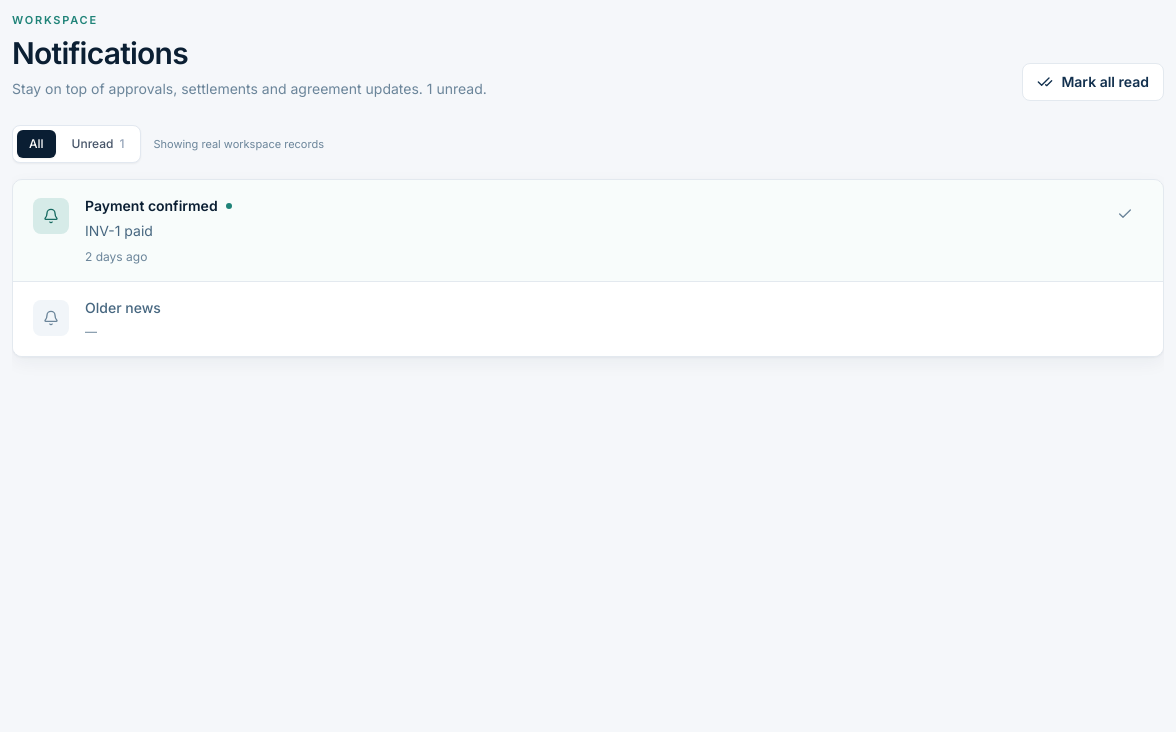
Test case: NotificationsPage › reports a failed mark-as-read request
Expected: the text "Payment confirmed" is shown, [85, 196, 218, 216]
Click the button named "Mark as read". click: (1125, 214)
box: [1107, 196, 1143, 232]
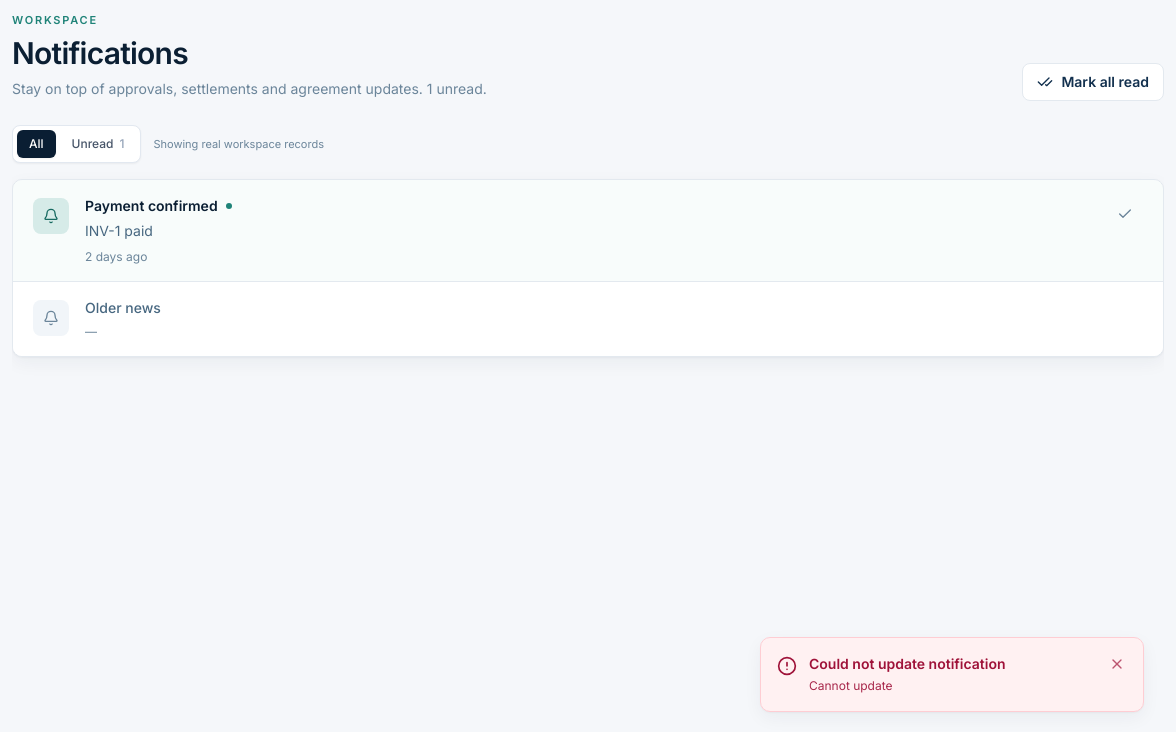
Result: the text "Could not update notification" is shown at [809, 654, 1006, 672]
